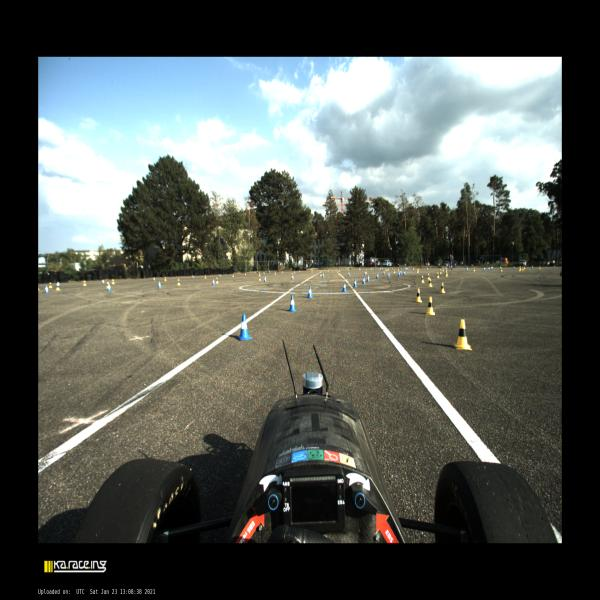blue_cone: (237, 314, 252, 340), (288, 295, 297, 312), (308, 286, 313, 298), (342, 282, 347, 292), (353, 278, 357, 288), (108, 283, 112, 291), (45, 286, 49, 293), (362, 277, 365, 284), (158, 282, 161, 288), (212, 279, 215, 285), (387, 272, 390, 277), (376, 273, 379, 278), (57, 281, 60, 286), (264, 276, 266, 282), (292, 274, 294, 280), (347, 272, 350, 276), (404, 270, 406, 276), (367, 276, 369, 282), (398, 271, 400, 276), (102, 279, 104, 284), (382, 270, 384, 274), (490, 266, 492, 270), (488, 267, 490, 270), (513, 266, 515, 269), (405, 267, 407, 270), (404, 267, 406, 270), (219, 274, 221, 277), (192, 275, 194, 278), (336, 269, 338, 272), (323, 273, 324, 278), (364, 272, 366, 274), (445, 268, 447, 270), (466, 268, 468, 270), (492, 266, 493, 270), (531, 266, 533, 268), (426, 268, 428, 270), (400, 270, 401, 274), (282, 270, 283, 274), (154, 277, 155, 281), (346, 268, 348, 270), (372, 268, 374, 270), (484, 267, 485, 270), (500, 266, 501, 269), (299, 270, 300, 273), (245, 273, 246, 276), (401, 267, 402, 270), (554, 266, 555, 268), (413, 268, 414, 270), (407, 268, 408, 270), (382, 268, 383, 270), (264, 272, 264, 274), (392, 268, 392, 270), (314, 270, 314, 272), (326, 269, 326, 272)
yellow_cone: (453, 320, 472, 351), (426, 296, 435, 315), (415, 288, 422, 303), (440, 283, 445, 293), (428, 278, 433, 287), (177, 278, 181, 286), (56, 283, 60, 291), (421, 275, 424, 283), (83, 280, 87, 286), (49, 282, 53, 288), (427, 273, 430, 280), (216, 278, 219, 284), (445, 271, 448, 277), (436, 272, 439, 278), (106, 282, 109, 288), (112, 279, 115, 284), (440, 269, 442, 274), (442, 267, 444, 272), (522, 266, 524, 271), (164, 276, 166, 281), (259, 276, 261, 280), (365, 270, 367, 274), (473, 268, 475, 272), (417, 269, 419, 273), (338, 271, 340, 275), (320, 272, 322, 276), (518, 268, 520, 271), (539, 266, 541, 269), (417, 268, 419, 271), (348, 268, 350, 271), (259, 273, 261, 276), (501, 268, 502, 272), (394, 269, 395, 273), (387, 268, 389, 270), (370, 268, 372, 270), (358, 268, 360, 270), (327, 268, 328, 272), (294, 270, 295, 274), (205, 274, 206, 278), (524, 266, 525, 269), (398, 268, 399, 271), (233, 274, 234, 277), (275, 272, 276, 274), (269, 271, 270, 273), (380, 268, 381, 270), (386, 268, 386, 271), (312, 270, 312, 272), (292, 273, 292, 277)
